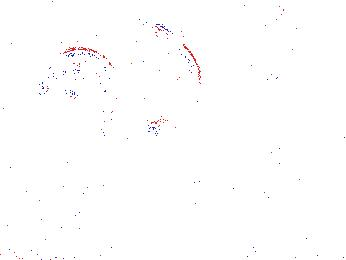moon jellyfish: (123, 21, 201, 130), (206, 1, 306, 79), (40, 48, 123, 110), (284, 2, 346, 74), (65, 4, 160, 43), (12, 11, 68, 71)
